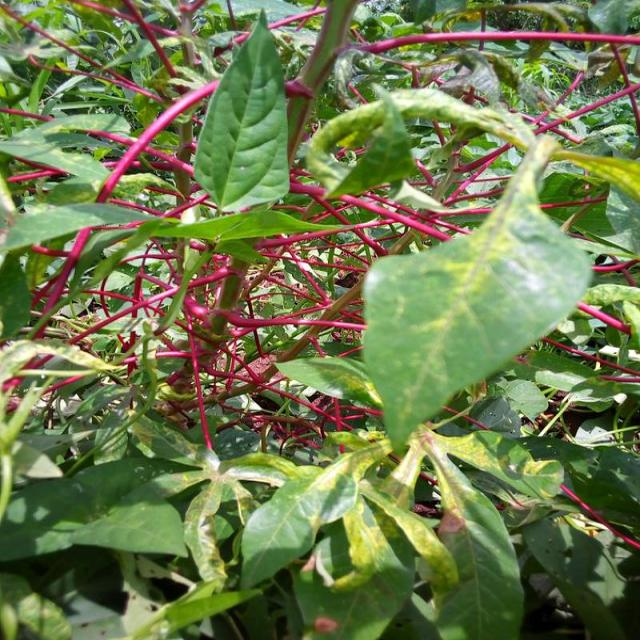cassava leaf: (360, 133, 594, 456), (192, 8, 290, 214)
